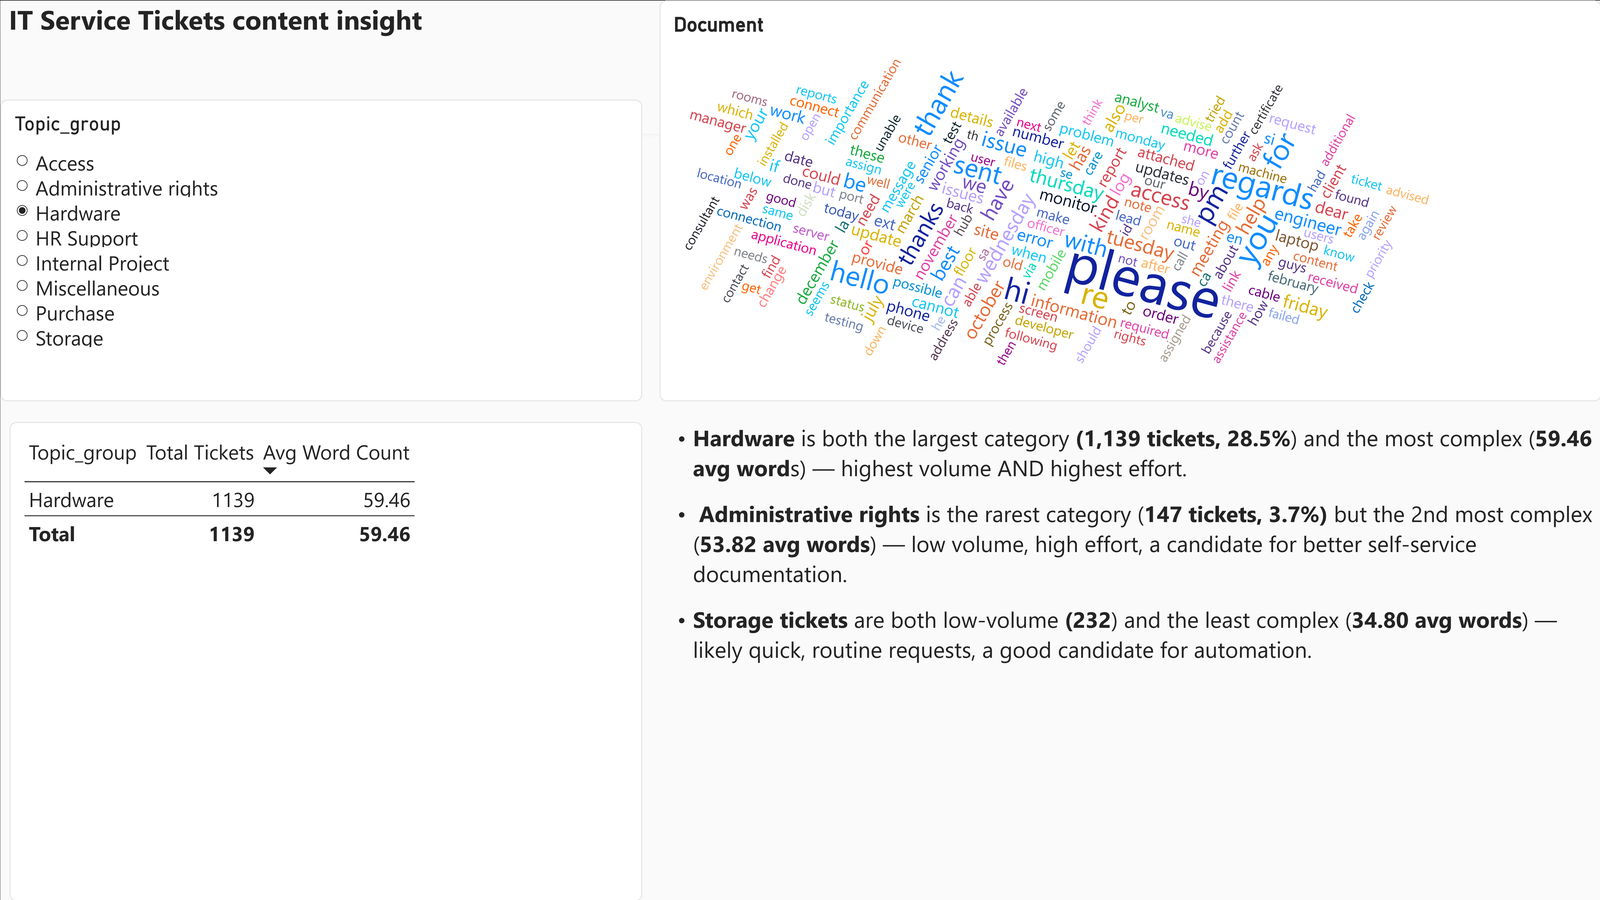

What the dashboard file says about the page in this screenshot:
{"tool":"powerbi","page":{"name":"IT Service Tickets content insight","canvas":[1920,1080],"ordinal":1},"visuals":[{"type":"WordCloud1447959067750","fields":{"Category":["it_tickets_sample_4000.Document"]},"box":[791.5,0,1129.8,480.9],"z":0},{"type":"tableEx","fields":{"Values":["it_tickets_sample_4000.Topic_group","00_Measures.Total Tickets","00_Measures.Avg Word Count","00_Measures.% of Total"]},"box":[10.6,506.4,759.6,574.5],"z":1},{"type":"listSlicer","fields":{"Values":["it_tickets_sample_4000.Topic_group"]},"box":[0,119.1,770.2,361.7],"z":2},{"type":"textbox","box":[10,0,516,95],"z":3},{"type":"textbox","box":[791.5,506.4,1129.8,359.6],"z":4}]}

Visuals, with their boxes in screenshot pixels (x1, y1, x2, y2), scaled from the page's 1920x1080 canvas onto the 1600x900 screenshot:
WordCloud1447959067750 - it_tickets_sample_4000.Document: select_region(660, 0, 1599, 401)
tableEx - it_tickets_sample_4000.Topic_group x 00_Measures.Total Tickets: select_region(9, 422, 642, 899)
listSlicer - it_tickets_sample_4000.Topic_group: select_region(0, 99, 642, 401)
textbox: select_region(8, 0, 438, 79)
textbox: select_region(660, 422, 1599, 722)
